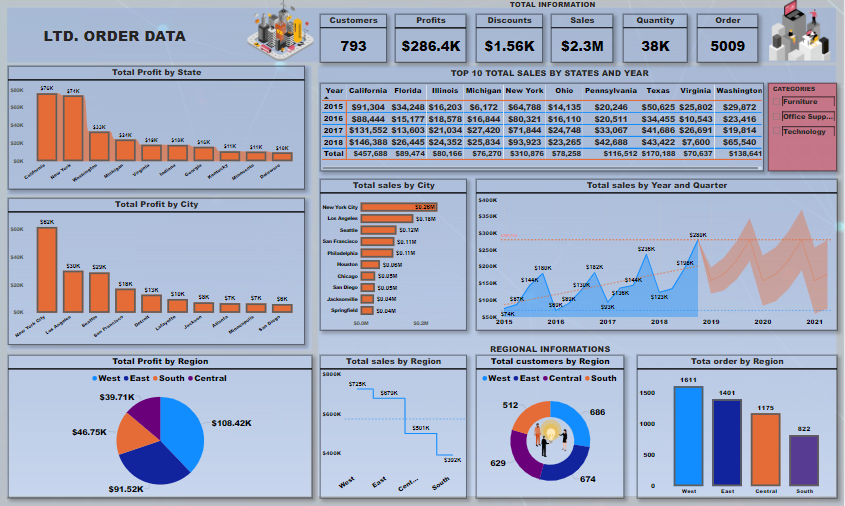

The dashboard page shown, as its layout file describes it:
{"tool":"powerbi","page":{"name":"Page 4","canvas":[2500,1500],"ordinal":0},"visuals":[{"type":"pieChart","fields":{"Y":["Order_data.Total Profit"],"Category":["Order_data.Region"]},"box":[29.5,1054.1,897.6,422.2],"z":0},{"type":"columnChart","fields":{"Category":["Order_data.State"],"Y":["Order_data.Total Profit"]},"box":[29.5,200.1,876,364.2],"z":1000},{"type":"clusteredColumnChart","fields":{"Y":["Order_data.Total Profit"],"Category":["Order_data.City"]},"box":[29.5,590.5,876,433.1],"z":2000},{"type":"lineChart","fields":{"Category":["Order_data.Region"],"Y":["Order_data.Total sales"]},"box":[951.4,1053.2,433.1,423.2],"z":3000},{"type":"donutChart","fields":{"Y":["Order_data.Total customers"],"Category":["Order_data.Region"]},"box":[1410,1053.3,436.7,423.3],"z":4000},{"type":"clusteredColumnChart","fields":{"Category":["Order_data.Region"],"Y":["Order_data.Tota order"]},"box":[1886.5,1053.2,590.5,423.2],"z":5000},{"type":"clusteredBarChart","fields":{"Category":["Order_data.City"],"Y":["Order_data.Total sales"]},"box":[950,533.3,433.3,446.7],"z":6000},{"type":"pivotTable","fields":{"Rows":["Order_data.Order Date.Variation.Date Hierarchy.Year","Order_data.Order Date.Variation.Date Hierarchy.Quarter","Order_data.Order Date.Variation.Date Hierarchy.Month","Order_data.Order Date.Variation.Date Hierarchy.Day"],"Columns":["Order_data.State"],"Values":["Order_data.Total sales"]},"box":[950,250,1310,260],"z":7000},{"type":"lineChart","fields":{"Y":["Order_data.Total sales"],"Category":["Order_data.Order Date.Variation.Date Hierarchy.Year","Order_data.Order Date.Variation.Date Hierarchy.Quarter"]},"box":[1410,533.3,1066.7,446.7],"z":8000},{"type":"card","title":"Customers","fields":{"Values":["Order_data.Total customers"]},"box":[950,46.7,196.7,143.3],"z":9000},{"type":"textbox","box":[30,23.3,803.3,176.7],"z":10000},{"type":"card","title":"Profits","fields":{"Values":["Order_data.Total Profit"]},"box":[1173.3,46.7,210,143.3],"z":11000},{"type":"card","title":"Discounts","fields":{"Values":["Order_data.Total Discount"]},"box":[1410,46.7,196.7,143.3],"z":12000},{"type":"card","title":"Sales","fields":{"Values":["Order_data.Total sales"]},"box":[1633.3,46.7,183.3,143.3],"z":13000},{"type":"card","title":"Quantity","fields":{"Values":["Order_data.Total quantity"]},"box":[1846.7,46.7,190,143.3],"z":14000},{"type":"card","title":"Order","fields":{"Values":["Order_data.Tota order"]},"box":[2063.3,46.7,180,143.3],"z":15000},{"type":"image","box":[2260,0,216.7,190],"z":16000},{"type":"image","box":[716.7,0,233.3,190],"z":17000},{"type":"textbox","box":[1043.3,183.3,1173.3,66.7],"z":18000},{"type":"textbox","box":[1050,0,1173.3,46.7],"z":19000},{"type":"textbox","box":[950,980,1526.7,76.7],"z":20000},{"type":"image","box":[1536.7,1240,193.3,120],"z":21000},{"type":"slicer","fields":{"Values":["Order_data.Category"]},"box":[2273.3,250,203.3,260],"z":22000}]}

Visuals, with their boxes in screenshot pixels (x1, y1, x2, y2), scaled from the page's 2500x1500 canvas onto the 845x506 screenshot:
pieChart - Order_data.Total Profit x Order_data.Region: crop(10, 356, 313, 498)
columnChart - Order_data.State x Order_data.Total Profit: crop(10, 68, 306, 190)
clusteredColumnChart - Order_data.Total Profit x Order_data.City: crop(10, 199, 306, 345)
lineChart - Order_data.Region x Order_data.Total sales: crop(322, 355, 468, 498)
donutChart - Order_data.Total customers x Order_data.Region: crop(477, 355, 624, 498)
clusteredColumnChart - Order_data.Region x Order_data.Tota order: crop(638, 355, 837, 498)
clusteredBarChart - Order_data.City x Order_data.Total sales: crop(321, 180, 468, 331)
pivotTable - Order_data.Order Date.Variation.Date Hierarchy.Year x Order_data.Order Date.Variation.Date Hierarchy.Quarter: crop(321, 84, 764, 172)
lineChart - Order_data.Total sales x Order_data.Order Date.Variation.Date Hierarchy.Year: crop(477, 180, 837, 331)
"Customers" card: crop(321, 16, 388, 64)
textbox: crop(10, 8, 282, 67)
"Profits" card: crop(397, 16, 468, 64)
"Discounts" card: crop(477, 16, 543, 64)
"Sales" card: crop(552, 16, 614, 64)
"Quantity" card: crop(624, 16, 688, 64)
"Order" card: crop(697, 16, 758, 64)
image: crop(764, 0, 837, 64)
image: crop(242, 0, 321, 64)
textbox: crop(353, 62, 749, 84)
textbox: crop(355, 0, 751, 16)
textbox: crop(321, 331, 837, 356)
image: crop(519, 418, 585, 459)
slicer - Order_data.Category: crop(768, 84, 837, 172)
